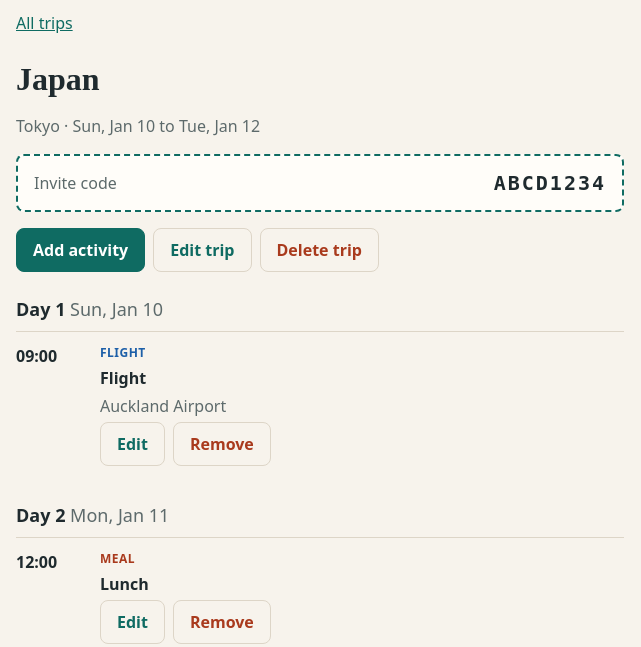
Scenario: organiser › edits an activity
The width and height of the screenshot is (641, 647).
Step 1. Click the button "Edit" below "Auckland Airport" → (132, 444), box [100, 422, 165, 466]
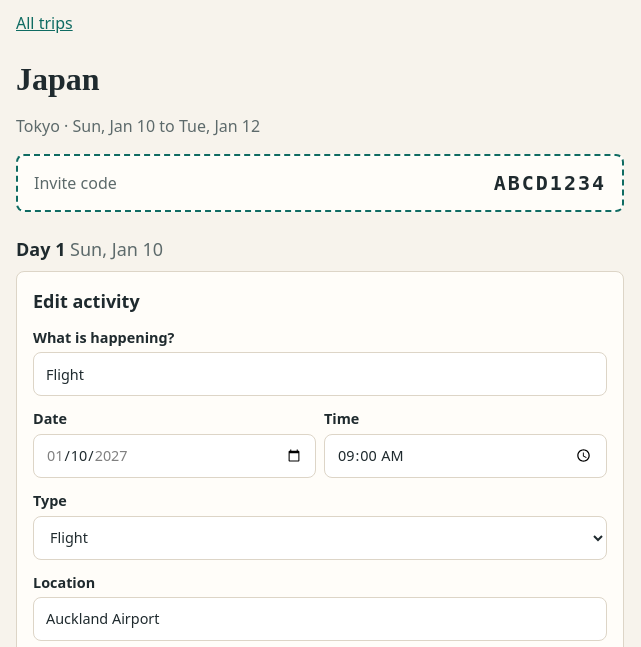
Expected: the field labelled "What is happening?" holds "Flight"
Step 2. Replace the text in the field labelled "What is happening?" with "Flight to Tokyo" → (320, 374), box [33, 352, 607, 396]
(page scrolled)
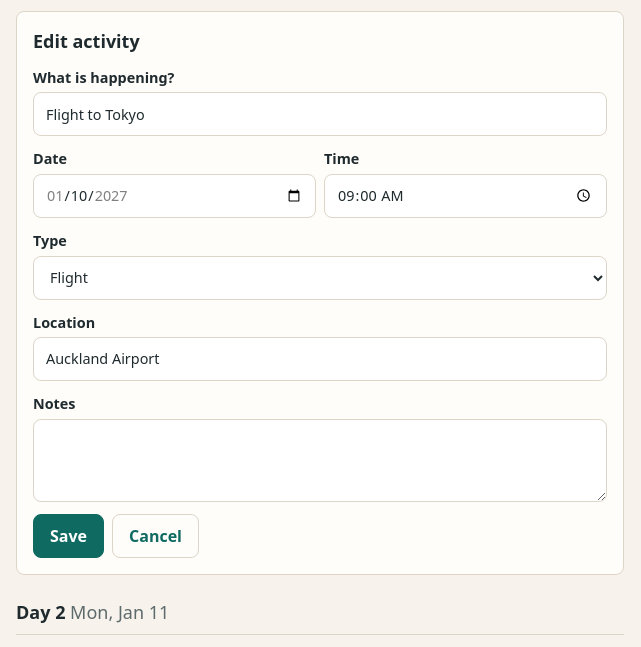
Step 3. Click the button "Save" → (68, 536), box [33, 514, 104, 558]
(page scrolled)
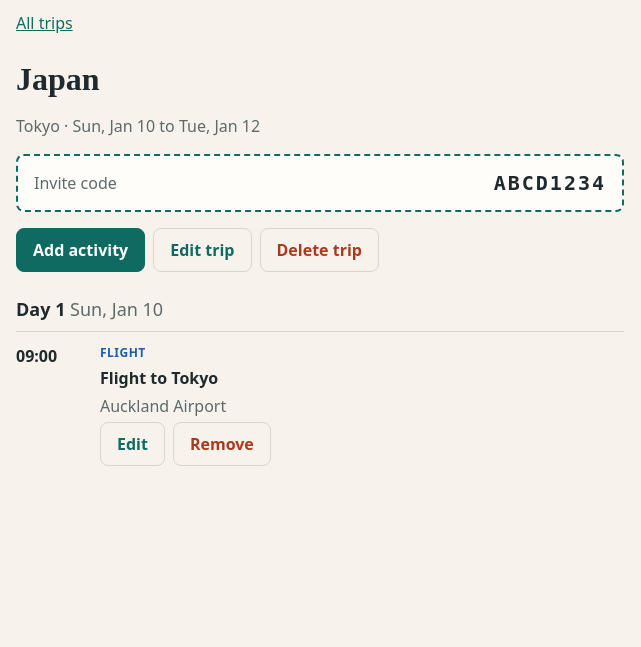
Expected: the heading "Flight to Tokyo" is shown, [100, 366, 218, 390]
